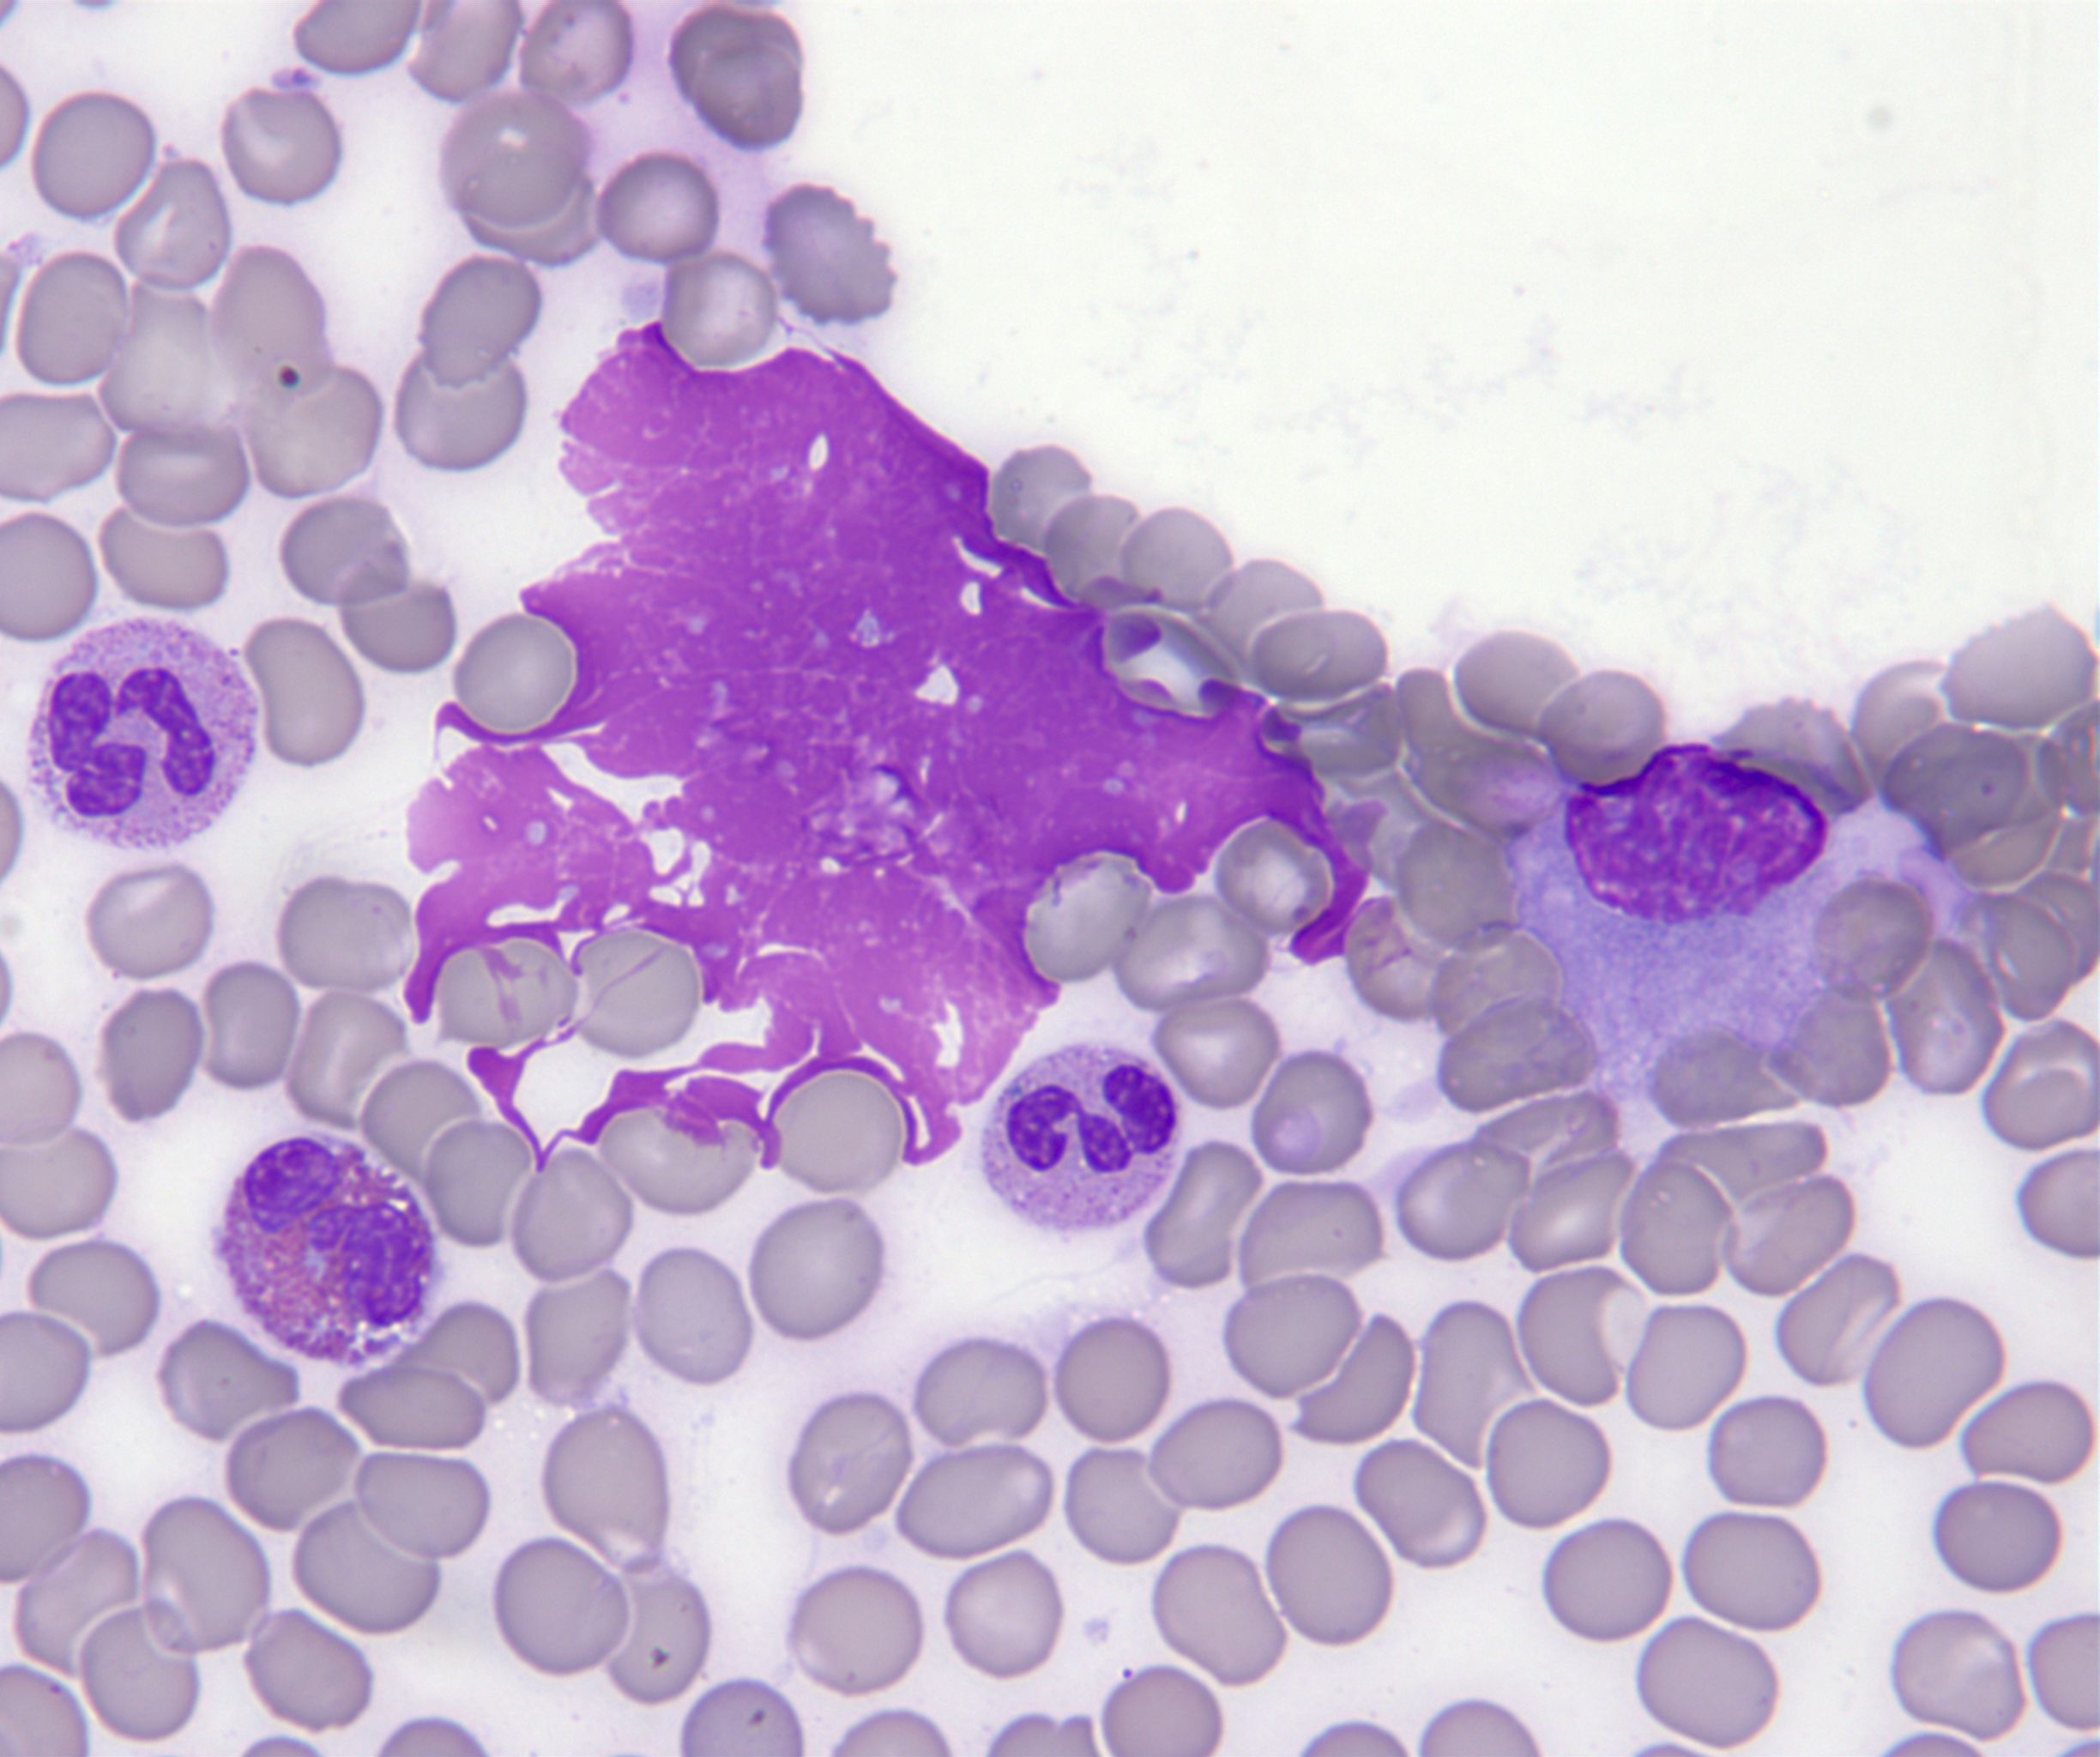6: (33, 616, 251, 841), (984, 1038, 1179, 1228)
E4: (215, 1134, 438, 1366)
